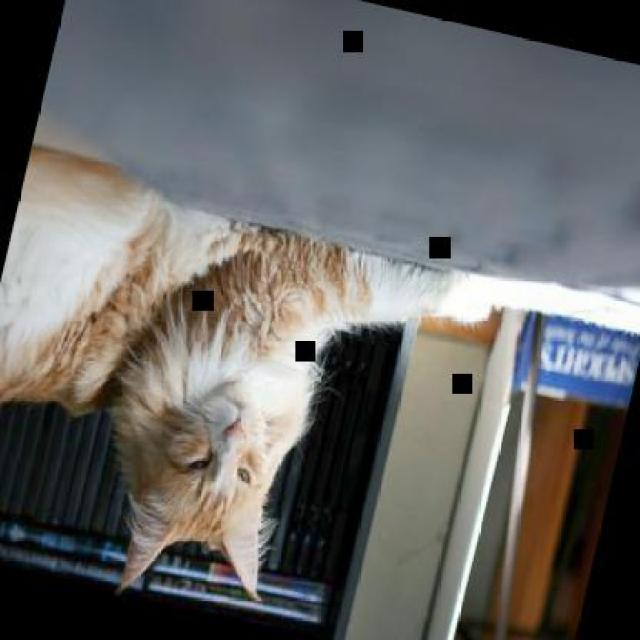cat: (0, 143, 462, 639)
